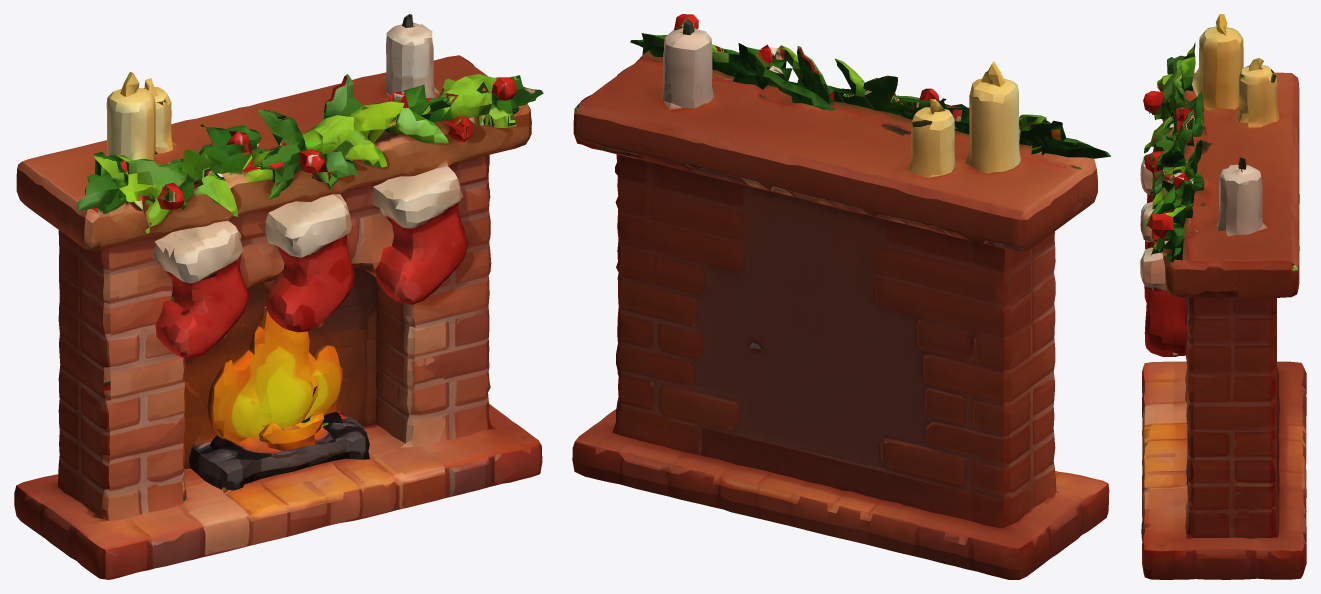
The model's file is xsw_fireplace.glb.
The picture shows the model from 3 angles, left to right: view 1: azimuth 30°, elevation 25°; view 2: azimuth 150°, elevation 25°; view 3: azimuth 270°, elevation 25°; orthographic projection. The views are drawn at different scales.
Visible parts, largest first — view 1: mesh_q; view 2: mesh_q; view 3: mesh_q.
Boxes of the visible parts, left/top/right/bottom form: mesh_q: left=14, top=14, right=543, bottom=579; mesh_q: left=572, top=14, right=1110, bottom=579; mesh_q: left=1140, top=14, right=1306, bottom=579.
Size of the model in its own units: 96.43 by 90.9 by 33.46.
Materials: 1 (1 with a texture image).
